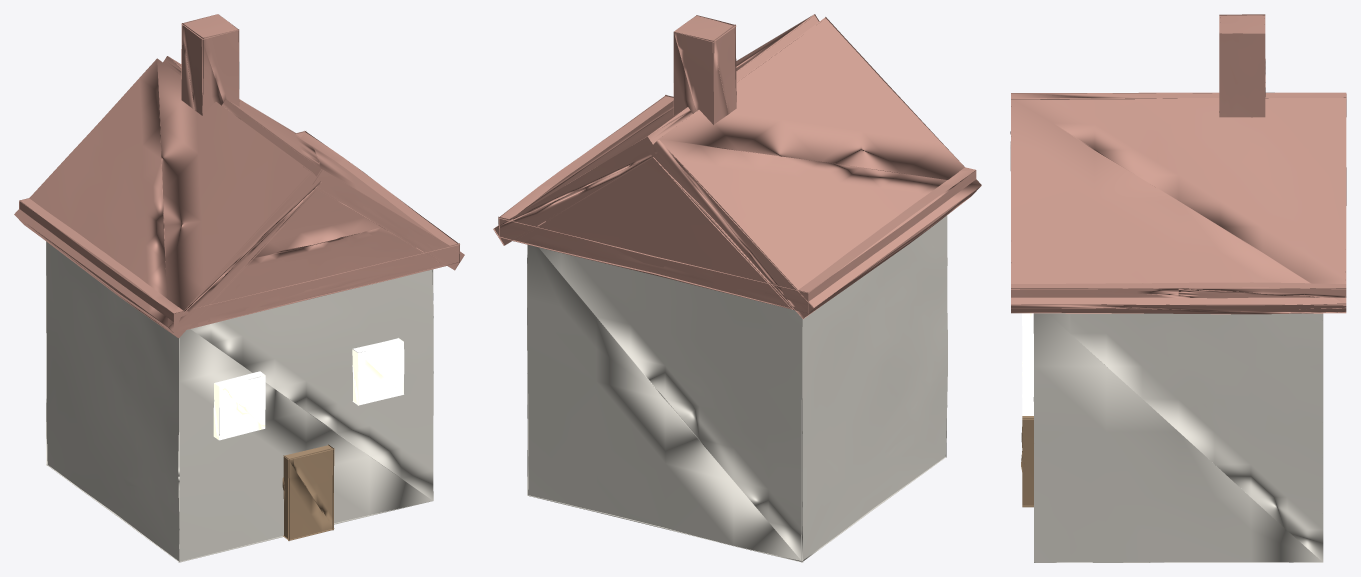
File: house.glb
3 views of the same model, side by side, from view 1: azimuth 30°, elevation 25°; view 2: azimuth 150°, elevation 25°; view 3: azimuth 270°, elevation 25° (orthographic). The views are drawn at different scales.
Parts seen in each view (by area): view 1: MetroHouse; view 2: MetroHouse; view 3: MetroHouse.
Boxes of the visible parts, x1=… form: MetroHouse: x1=14, y1=14, x2=464, y2=562; MetroHouse: x1=493, y1=14, x2=981, y2=562; MetroHouse: x1=1010, y1=14, x2=1346, y2=562.
Size of the model in its own units: 1.29 by 1.81 by 1.16.
